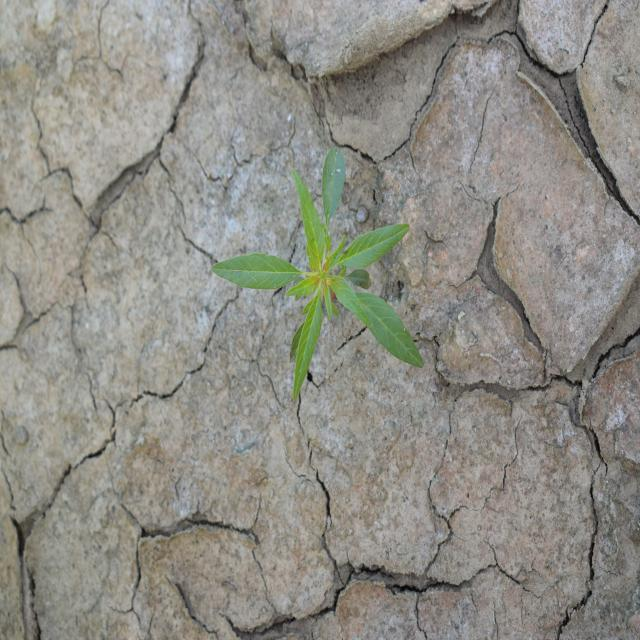Waterhemp: (210, 144, 425, 404)
